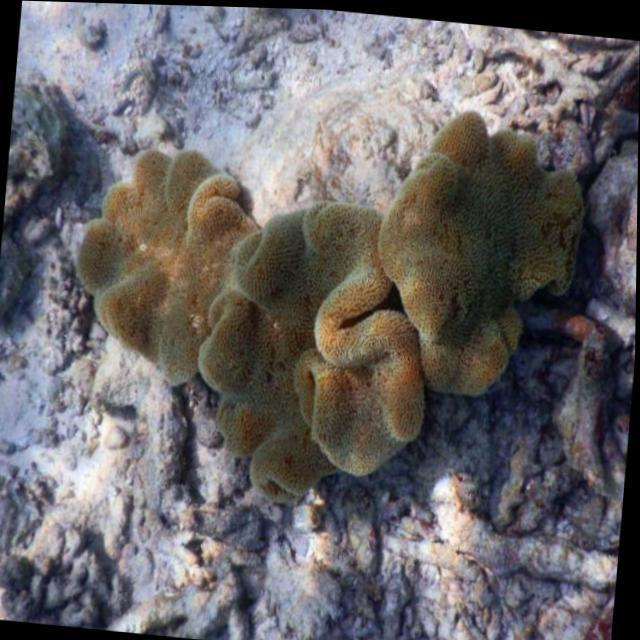Dead Coral: (20, 44, 630, 640)
